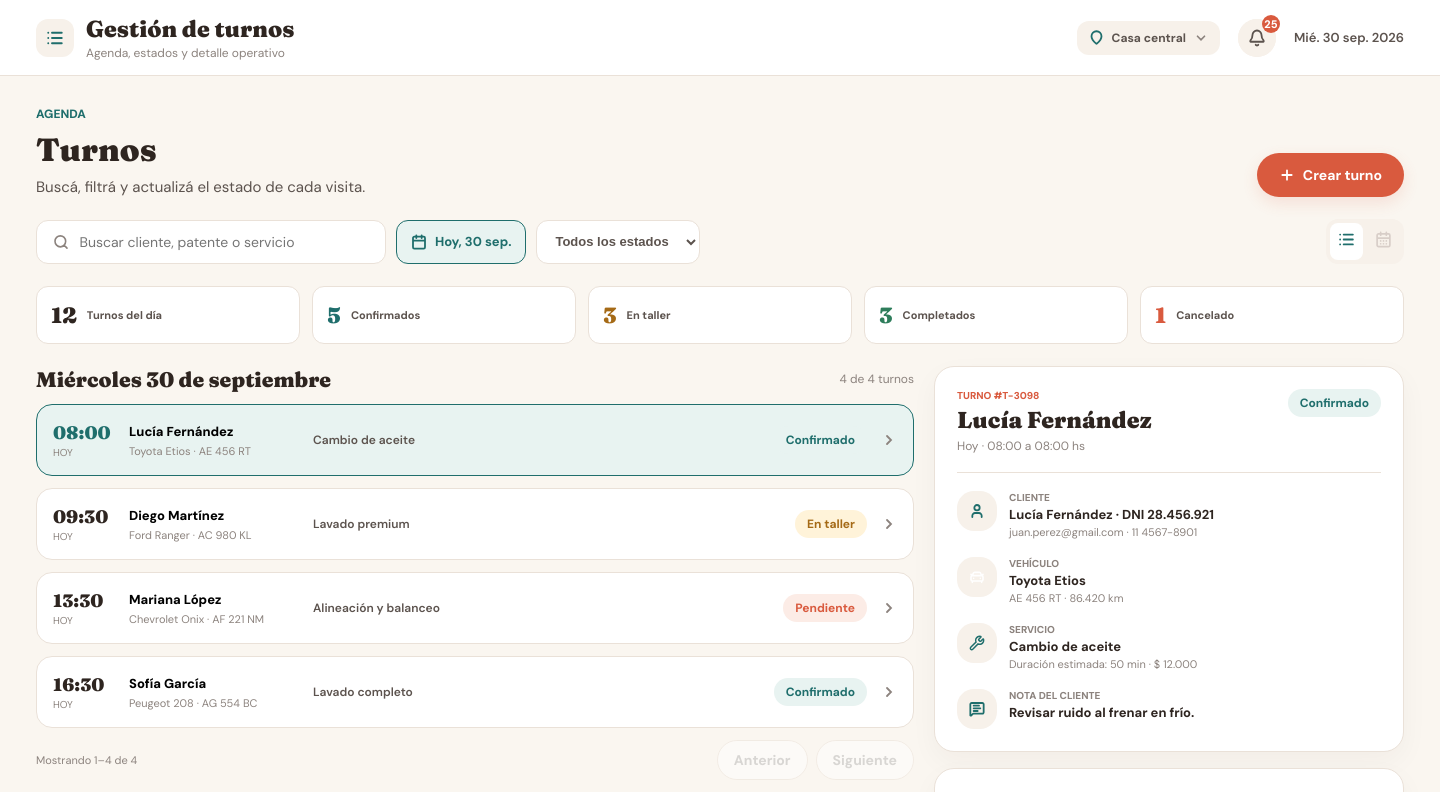
Test case: Reservar turno › mantiene el encabezado del panel visible con muchas notificaciones y lo cierra con Escape
Click the button named "notificaciones".
click(1257, 38)  # box top-left (1238, 18), bottom-right (1276, 56)
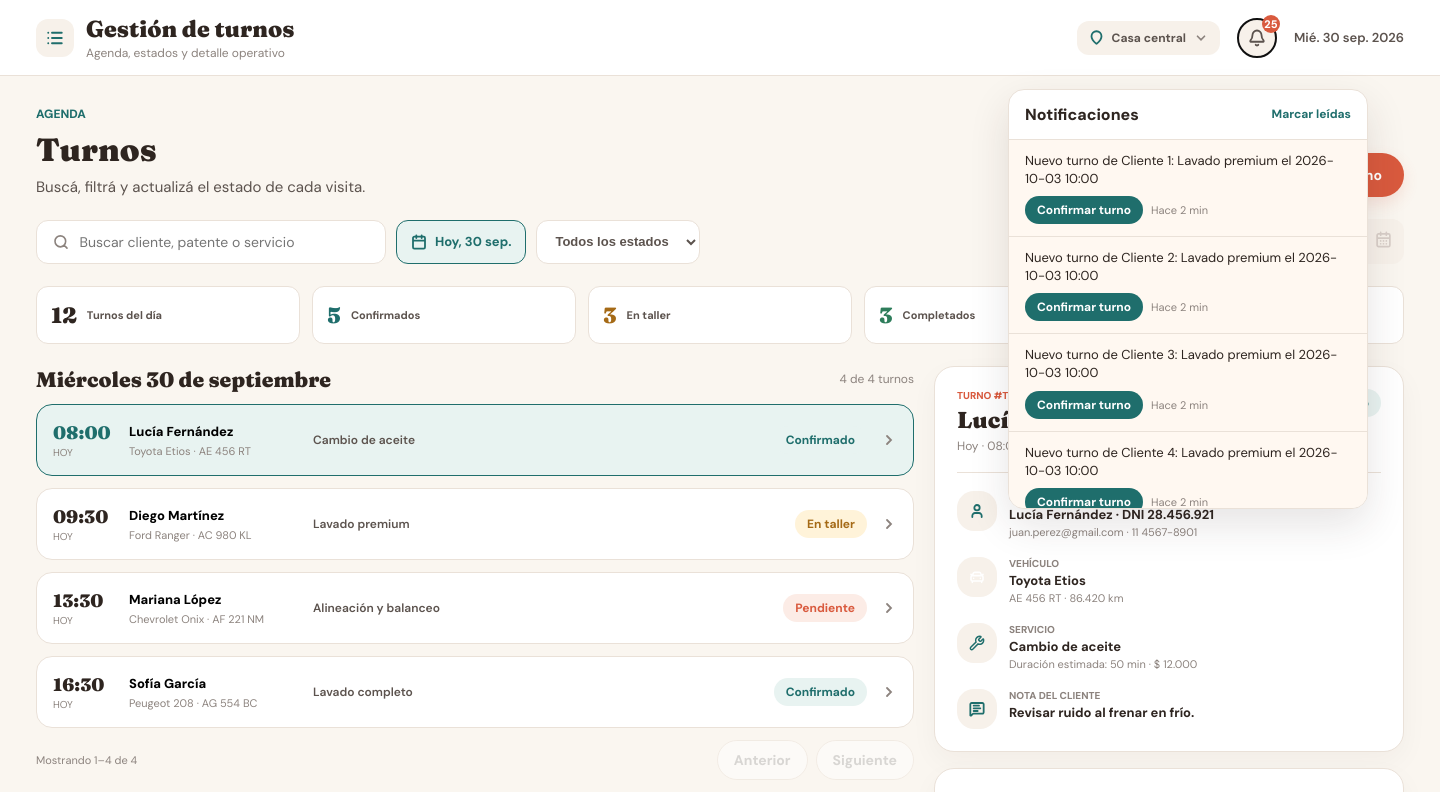
Check: the element with class "resp-anchored" is shown, box top-left (1008, 88), bottom-right (1368, 508)
Check: the element with class "resp-notif-lista" is shown, box top-left (1009, 140), bottom-right (1367, 508)
Check: the text "Notificaciones" is shown, box top-left (1025, 104), bottom-right (1139, 124)
Y el panel se cierra con Escape.
Press Escape
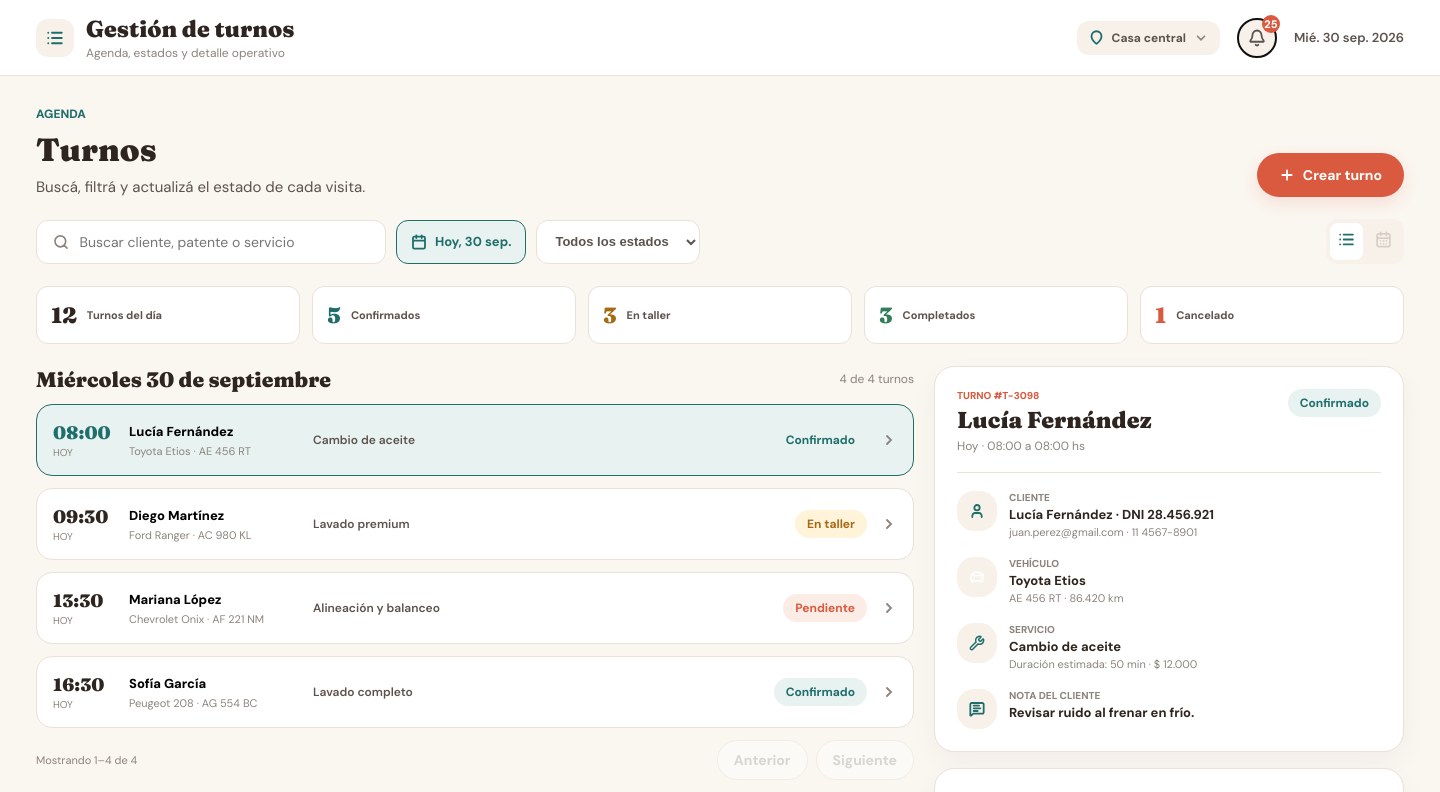
Check: the element with class "resp-anchored" is gone
